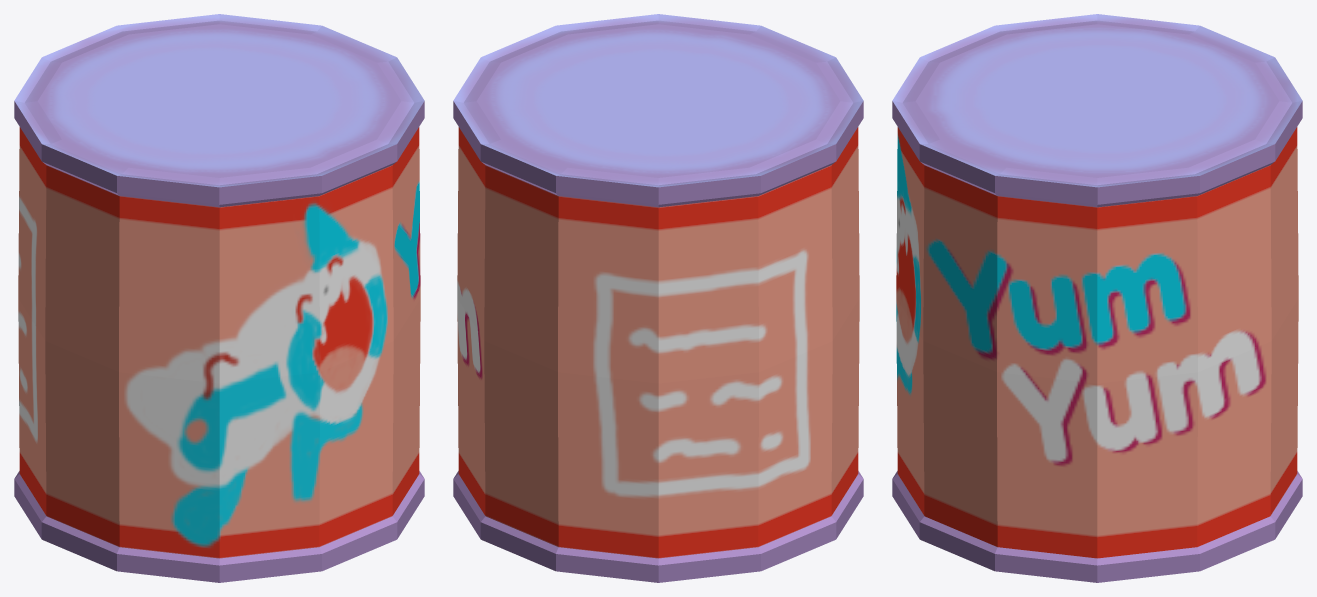
Rendered from yum_yum_food_for_cats.fbx.
The picture shows the model from 3 angles, left to right: view 1: azimuth 30°, elevation 25°; view 2: azimuth 150°, elevation 25°; view 3: azimuth 270°, elevation 25°; orthographic projection.
Visible parts, largest first — view 1: Food for cats; view 2: Food for cats; view 3: Food for cats.
Boxes of the visible parts, x1,y1,x2,y2 form: Food for cats: [14, 14, 424, 582]; Food for cats: [453, 14, 863, 582]; Food for cats: [892, 14, 1302, 582].
Size of the model in its own units: 97.03 by 103 by 97.03.
